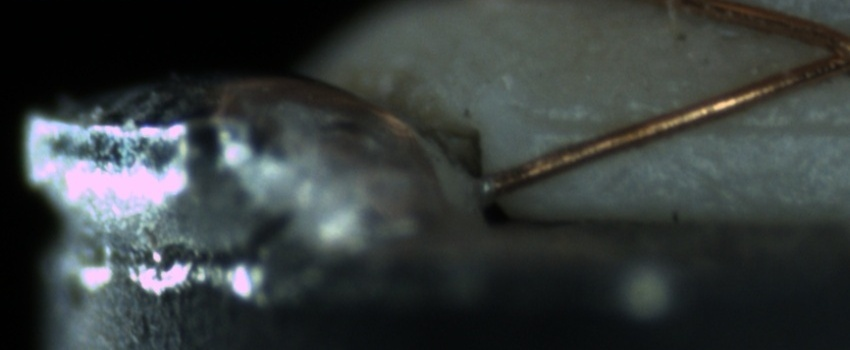CL: (799, 16, 849, 81)
DL: (521, 94, 850, 154)
